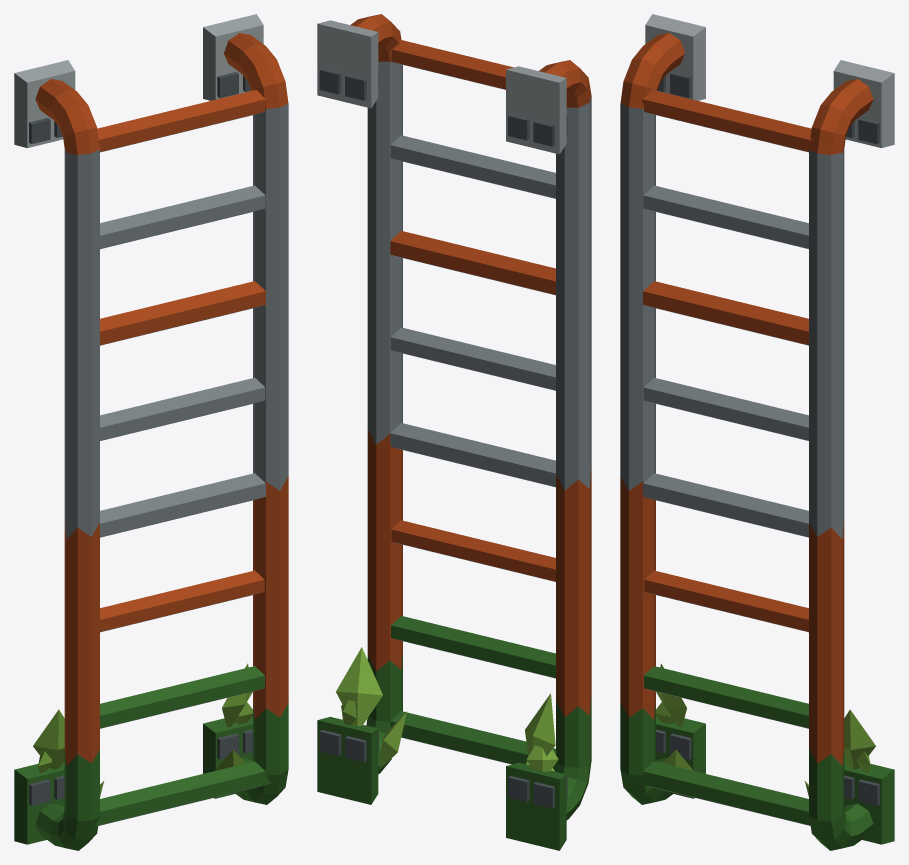
The model's file is bolted-ladder-da8166.glb.
3 renders of one model, left to right at view 1: azimuth 30°, elevation 25°; view 2: azimuth 150°, elevation 25°; view 3: azimuth 330°, elevation 25°, orthographic.
Visible parts, largest first — view 1: ladder; view 2: ladder; view 3: ladder.
Boxes of the visible parts, <box> form: ladder: <box>14,14,288,850</box>; ladder: <box>317,14,591,850</box>; ladder: <box>620,14,894,850</box>.
Size of the model in its own units: 0.99 by 3 by 0.373.
